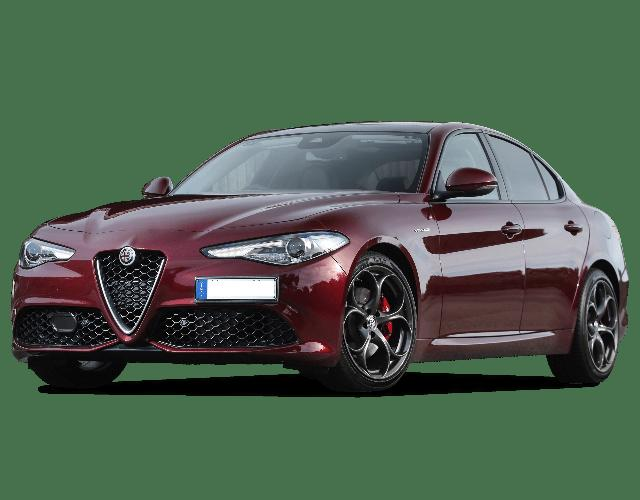alpha-romeo: (11, 120, 630, 394)
